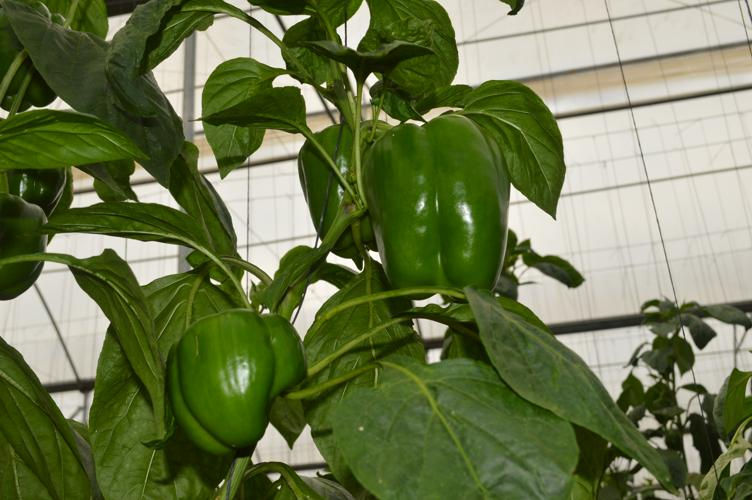BellPepper: (367, 114, 511, 296), (167, 311, 311, 448), (301, 122, 376, 253), (2, 197, 49, 294), (12, 160, 65, 215)
